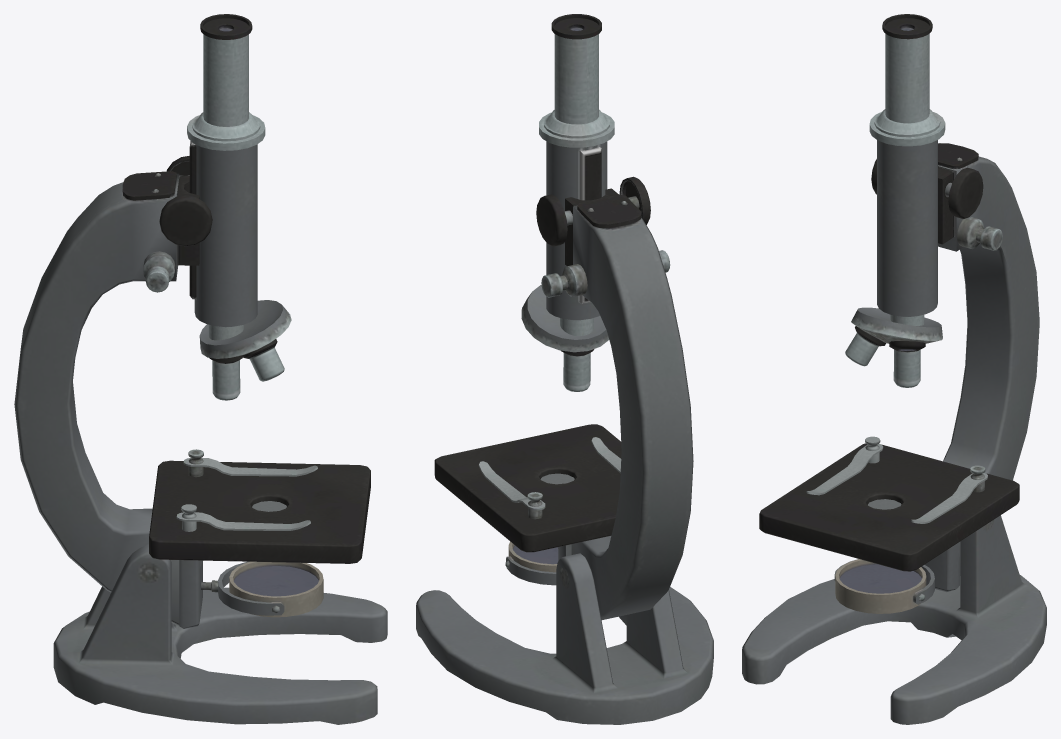
The model's file is Microscope.fbx.
The picture shows the model from 3 angles, left to right: view 1: azimuth 30°, elevation 25°; view 2: azimuth 150°, elevation 25°; view 3: azimuth 270°, elevation 25°; orthographic projection. The views are drawn at different scales.
Parts seen in each view (by area): view 1: Object_80.001, Object_82.001, Object_84.001, Object_96.001, Object_86.001, Object_98.001, Object_88.001, Object_90.001, Object_92.001; view 2: Object_80.001, Object_82.001, Object_84.001, Object_96.001, Object_98.001, Object_86.001, Object_88.001, Object_90.001; view 3: Object_80.001, Object_82.001, Object_84.001, Object_96.001, Object_86.001, Object_98.001, Object_88.001, Object_90.001, Object_92.001.
Boxes of the visible parts, x1=… form: Object_80.001: x1=14, y1=156, x2=286, y2=628; Object_82.001: x1=53, y1=544, x2=387, y2=724; Object_84.001: x1=149, y1=449, x2=370, y2=563; Object_96.001: x1=187, y1=14, x2=265, y2=340; Object_86.001: x1=201, y1=561, x2=323, y2=617; Object_98.001: x1=199, y1=300, x2=291, y2=358; Object_88.001: x1=176, y1=457, x2=317, y2=530; Object_90.001: x1=209, y1=355, x2=242, y2=400; Object_92.001: x1=242, y1=339, x2=284, y2=381; Object_80.001: x1=505, y1=176, x2=693, y2=619; Object_82.001: x1=416, y1=553, x2=713, y2=724; Object_84.001: x1=434, y1=424, x2=621, y2=552; Object_96.001: x1=539, y1=14, x2=614, y2=335; Object_98.001: x1=521, y1=285, x2=609, y2=352; Object_86.001: x1=506, y1=541, x2=558, y2=585; Object_88.001: x1=478, y1=437, x2=621, y2=510; Object_90.001: x1=561, y1=349, x2=594, y2=391; Object_80.001: x1=868, y1=143, x2=1039, y2=601; Object_82.001: x1=742, y1=515, x2=1046, y2=724; Object_84.001: x1=759, y1=436, x2=1019, y2=571; Object_96.001: x1=869, y1=14, x2=945, y2=325; Object_86.001: x1=834, y1=559, x2=934, y2=613; Object_98.001: x1=851, y1=307, x2=942, y2=343; Object_88.001: x1=806, y1=444, x2=987, y2=523; Object_90.001: x1=893, y1=349, x2=920, y2=387; Object_92.001: x1=845, y1=326, x2=886, y2=366.
Bounding box in the file's own units: 19.82 × 37.82 × 16.72.
